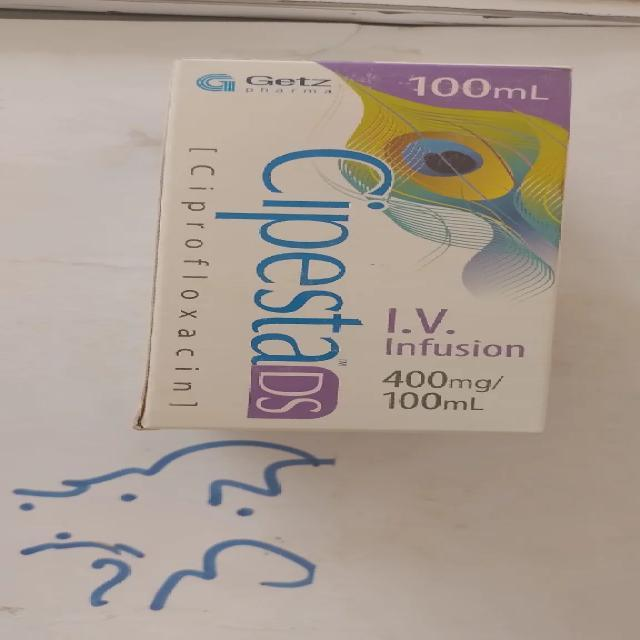drug-name: (215, 145, 404, 416)
